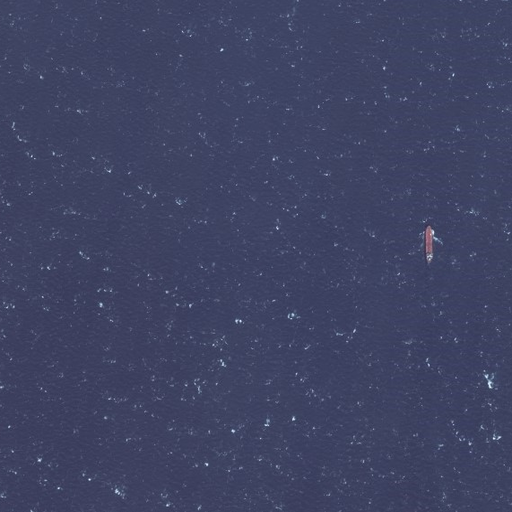ship: (421, 222, 436, 267)
